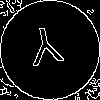Y: (25, 25, 67, 76)
